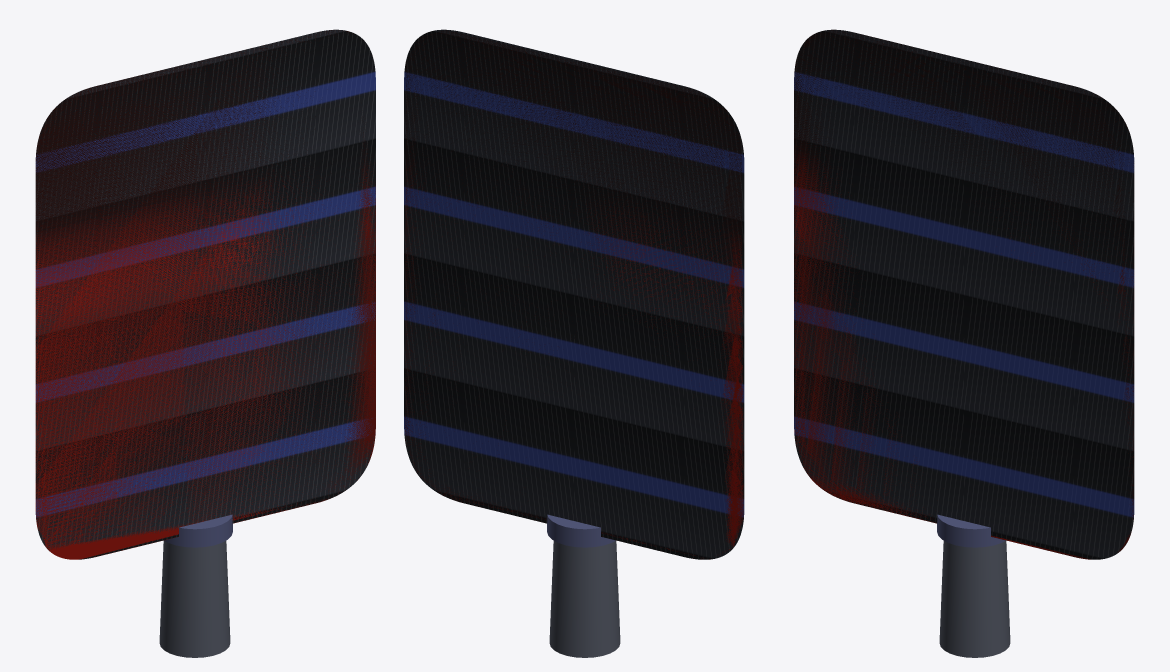
File: paddle-2.glb
3 views of the same model, side by side, from view 1: azimuth 30°, elevation 25°; view 2: azimuth 150°, elevation 25°; view 3: azimuth 330°, elevation 25° (orthographic).
Parts seen in each view (by area): view 1: Edge, Front, Handle, Grip; view 2: Edge, Back, Handle, Grip; view 3: Edge, Front, Handle, Grip.
Part boxes in pixels (left/top/right/bottom): Edge: left=35, top=29, right=375, bottom=559; Front: left=35, top=30, right=375, bottom=559; Handle: left=159, top=541, right=230, bottom=657; Grip: left=164, top=514, right=232, bottom=547; Edge: left=404, top=29, right=744, bottom=559; Back: left=405, top=30, right=743, bottom=559; Handle: left=549, top=541, right=620, bottom=657; Grip: left=547, top=514, right=615, bottom=547; Edge: left=794, top=29, right=1134, bottom=559; Front: left=794, top=29, right=1134, bottom=559; Handle: left=939, top=541, right=1010, bottom=657; Grip: left=937, top=514, right=1005, bottom=547.
Size of the model in its own units: 3.1 by 5.15 by 0.6.
Materials: 5 (3 with a texture image).
